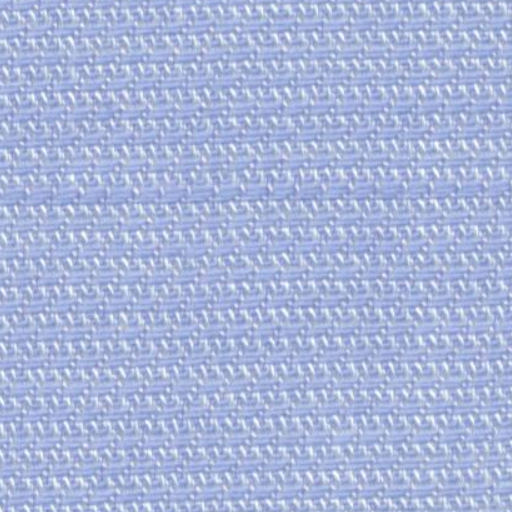TuoSha: (9, 162, 496, 242)
